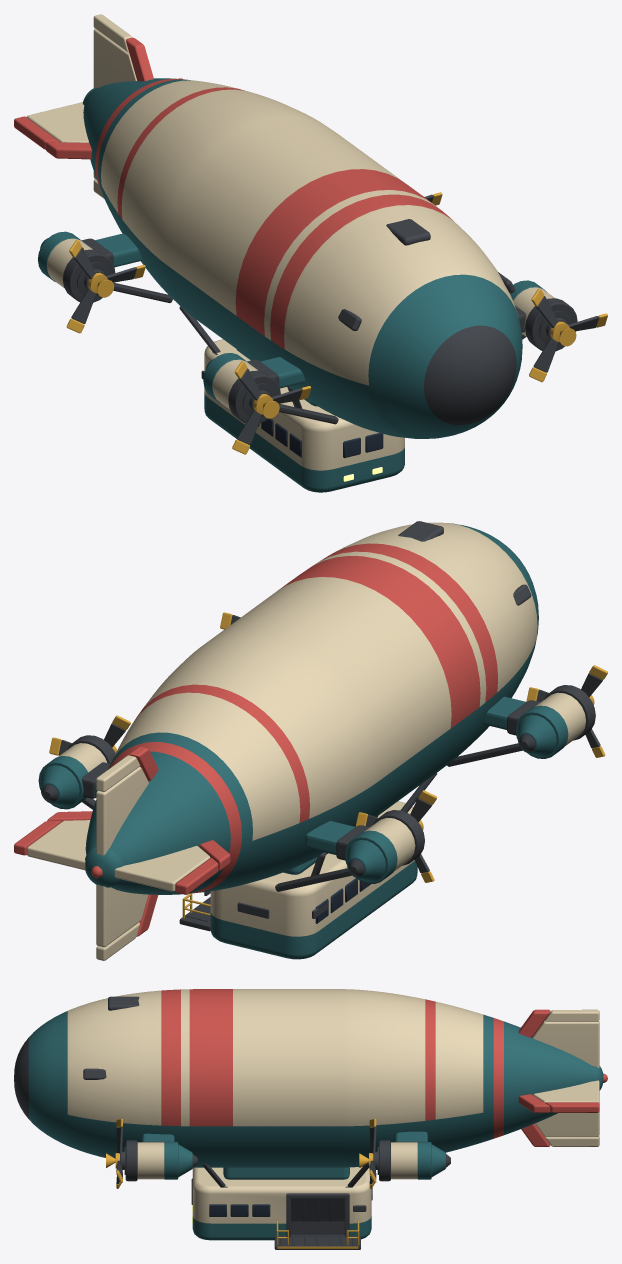
The model's file is cargo_blimp.glb.
3 views of the same model, one above another, from view 1: azimuth 30°, elevation 25°; view 2: azimuth 150°, elevation 25°; view 3: azimuth 270°, elevation 25° (orthographic). The views are drawn at different scales.
Parts seen in each view (by area): view 1: envelope, propeller_mounts, cabin, tail_fins, propeller_left_rear, propeller_left_front, propeller_right_front, cabin_windows; view 2: envelope, propeller_mounts, tail_fins, cabin, propeller_left_front, propeller_left_rear, propeller_right_rear, cabin_windows, jump_platform; view 3: envelope, cabin, tail_fins, propeller_mounts, side_door_opening, jump_platform, cabin_windows, propeller_right_rear, propeller_right_front.
Part boxes in pixels (x1,y1,x2,y2): envelope: [83, 78, 522, 438]; propeller_mounts: [38, 231, 577, 424]; cabin: [179, 306, 404, 492]; tail_fins: [14, 14, 182, 198]; propeller_left_rear: [66, 240, 145, 333]; propeller_left_front: [232, 361, 311, 454]; propeller_right_front: [529, 288, 607, 382]; cabin_windows: [258, 418, 383, 481]; envelope: [85, 521, 538, 894]; propeller_mounts: [38, 685, 595, 891]; tail_fins: [14, 746, 230, 960]; cabin: [204, 773, 437, 959]; propeller_left_front: [526, 665, 607, 757]; propeller_left_rear: [355, 790, 436, 882]; propeller_right_rear: [49, 715, 130, 755]; cabin_windows: [315, 878, 370, 923]; jump_platform: [179, 897, 210, 931]; envelope: [14, 989, 607, 1167]; cabin: [192, 1162, 372, 1240]; tail_fins: [518, 1009, 599, 1146]; propeller_mounts: [124, 1131, 450, 1181]; side_door_opening: [286, 1193, 349, 1236]; jump_platform: [274, 1235, 360, 1249]; cabin_windows: [191, 1178, 270, 1222]; propeller_right_rear: [359, 1119, 377, 1188]; propeller_right_front: [106, 1119, 124, 1188].
Size of the model in its own units: 22.11 by 17 by 39.87.
